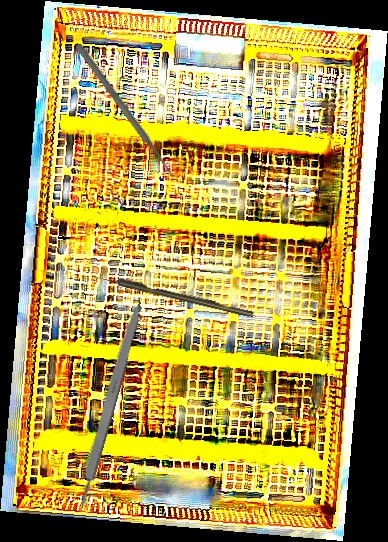Hook Surgical: (95, 272, 255, 319)
Pusher: (73, 42, 178, 180)
Scalpel Handle: (73, 299, 145, 507)
